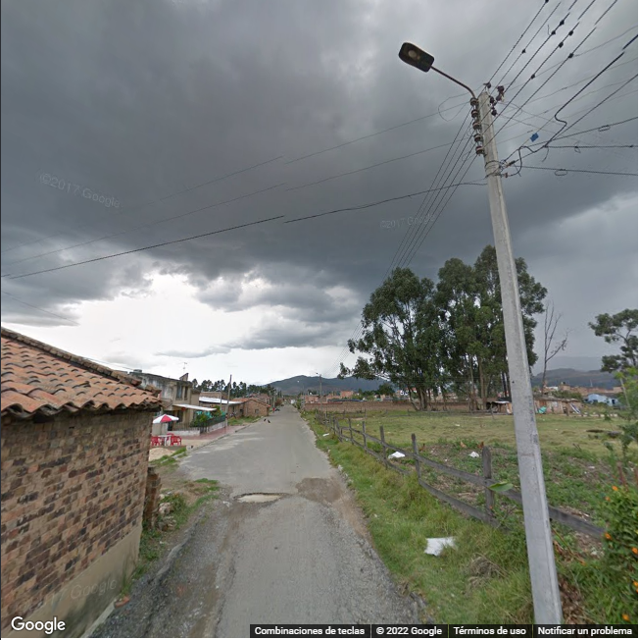D00: (210, 580, 231, 638)
D40: (241, 486, 286, 505)
